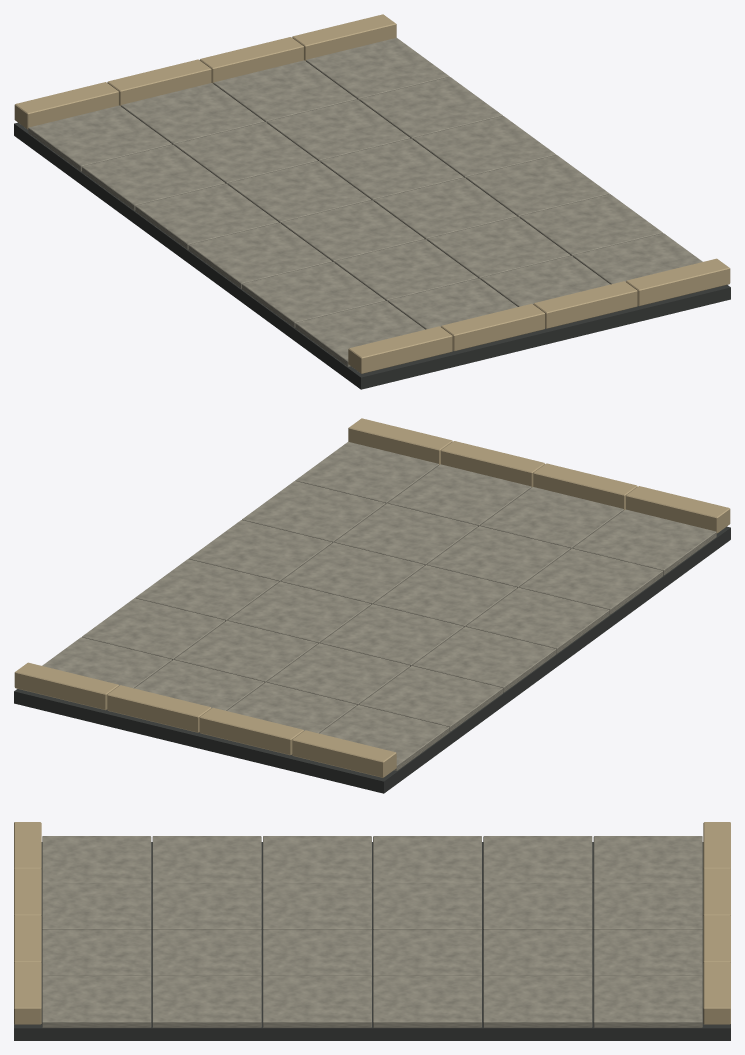
Rendered from road_straight_512.glb.
3 views of the same model, one above another, from view 1: azimuth 30°, elevation 25°; view 2: azimuth 150°, elevation 25°; view 3: azimuth 270°, elevation 25° (orthographic). The views are drawn at different scales.
Parts seen in each view (by area): view 1: Road foundation, Cast concrete slab.003, Cast concrete slab.002, Cast concrete slab.001, Cast concrete slab.004, Cast concrete slab.005, Cast concrete slab.013, Cast concrete slab.019, Cast concrete slab.023, Cast concrete slab.008, Cast concrete slab.015, Cast concrete slab.021 (+21 smaller); view 2: Road foundation, Cast concrete slab.002, Cast concrete slab.003, Cast concrete slab, Cast concrete slab.001, Cast concrete slab.004, Cast concrete slab.016, Cast concrete slab.018, Cast concrete slab.022, Cast concrete slab.009, Cast concrete slab.014, Cast concrete slab.020 (+21 smaller); view 3: Road foundation, Cast concrete slab.019, Cast concrete slab.022, Cast concrete slab.018, Cast concrete slab.023, Cast concrete slab.020, Cast concrete slab.021, Cast concrete slab.006, Cast concrete slab.007, Cast concrete slab.010, Cast concrete slab.011, Cast concrete slab.008 (+21 smaller).
Part boxes in pixels (bbox=[...]): Road foundation: bbox=[14, 122, 730, 389]; Cast concrete slab.003: bbox=[135, 183, 278, 249]; Cast concrete slab.002: bbox=[188, 222, 332, 288]; Cast concrete slab.001: bbox=[242, 262, 385, 327]; Cast concrete slab.004: bbox=[82, 144, 225, 210]; Cast concrete slab.005: bbox=[28, 105, 171, 171]; Cast concrete slab.013: bbox=[427, 216, 570, 278]; Cast concrete slab.019: bbox=[519, 194, 662, 256]; Cast concrete slab.023: bbox=[306, 37, 449, 99]; Cast concrete slab.008: bbox=[281, 200, 424, 262]; Cast concrete slab.015: bbox=[320, 138, 463, 200]; Cast concrete slab.021: bbox=[412, 116, 556, 178]; Road foundation: bbox=[14, 526, 730, 793]; Cast concrete slab.002: bbox=[466, 587, 609, 653]; Cast concrete slab.003: bbox=[412, 626, 556, 692]; Cast concrete slab: bbox=[573, 509, 716, 575]; Cast concrete slab.001: bbox=[519, 548, 662, 614]; Cast concrete slab.004: bbox=[359, 666, 502, 731]; Cast concrete slab.016: bbox=[174, 620, 317, 682]; Cast concrete slab.018: bbox=[295, 441, 438, 503]; Cast concrete slab.022: bbox=[82, 598, 225, 660]; Cast concrete slab.009: bbox=[320, 604, 463, 666]; Cast concrete slab.014: bbox=[281, 542, 424, 604]; Cast concrete slab.020: bbox=[188, 520, 332, 582]; Road foundation: bbox=[14, 842, 730, 1040]; Cast concrete slab.019: bbox=[152, 976, 261, 1027]; Cast concrete slab.022: bbox=[483, 976, 592, 1027]; Cast concrete slab.018: bbox=[42, 976, 151, 1027]; Cast concrete slab.023: bbox=[593, 976, 702, 1027]; Cast concrete slab.020: bbox=[263, 976, 371, 1027]; Cast concrete slab.021: bbox=[373, 976, 481, 1027]; Cast concrete slab.006: bbox=[42, 882, 151, 929]; Cast concrete slab.007: bbox=[152, 882, 261, 929]; Cast concrete slab.010: bbox=[483, 882, 592, 929]; Cast concrete slab.011: bbox=[593, 882, 702, 929]; Cast concrete slab.008: bbox=[263, 882, 371, 929].
Size of the model in its own units: 512 by 42 by 832.
3 materials, 1 textured.
